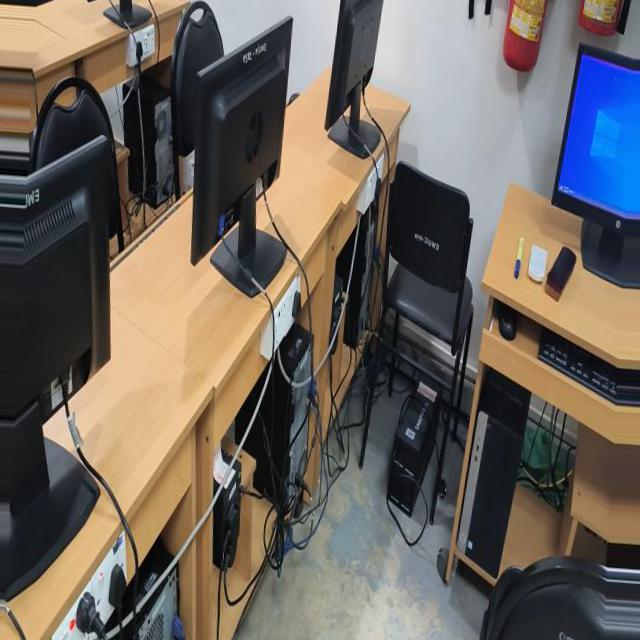Chair: (158, 172, 254, 398), (0, 515, 140, 639), (532, 119, 636, 270), (437, 43, 492, 219)
Cpu: (92, 351, 163, 540), (326, 328, 394, 484), (484, 114, 542, 231), (264, 191, 306, 344), (456, 555, 497, 639), (371, 361, 405, 435)
Fire Extinguisher: (96, 0, 140, 85), (14, 0, 62, 47)
Keyboard: (0, 312, 86, 376)
Monitor: (541, 171, 640, 593), (360, 51, 469, 304), (0, 55, 80, 271), (267, 0, 326, 172), (518, 0, 589, 71)
Mouse: (110, 292, 134, 325)
